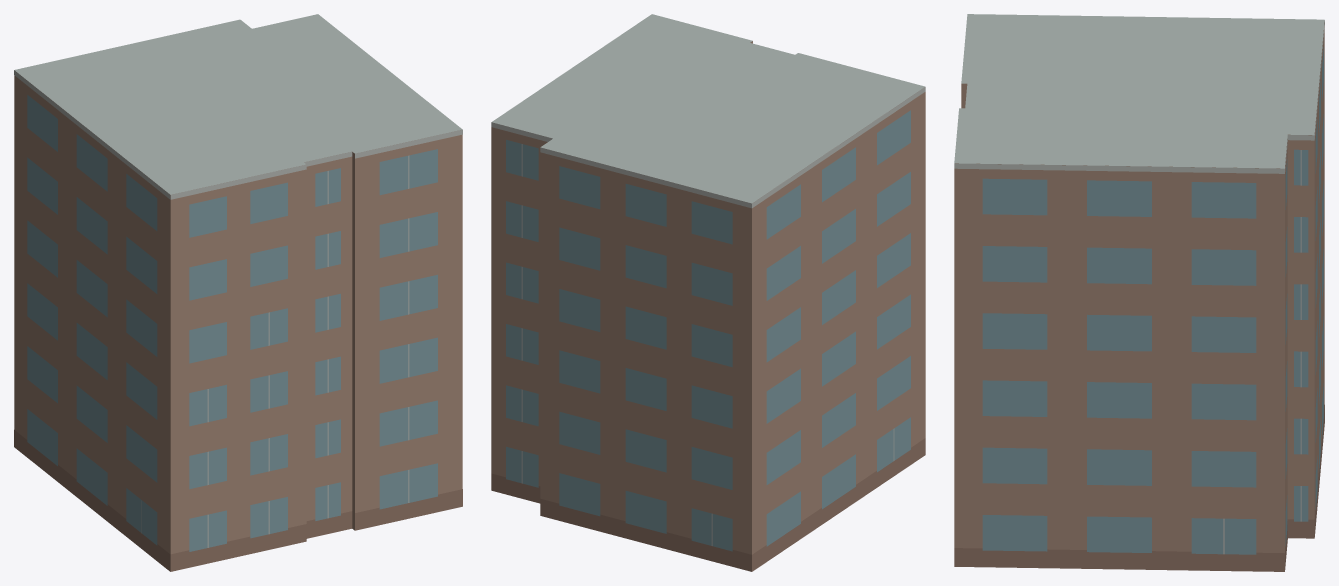
The model's file is survey-upis-32663463.glb.
3 views of the same model, side by side, from view 1: azimuth 30°, elevation 25°; view 2: azimuth 150°, elevation 25°; view 3: azimuth 270°, elevation 25° (orthographic). The views are drawn at different scales.
Parts seen in each view (by area): view 1: survey-upis-32663463.tmp; view 2: survey-upis-32663463.tmp; view 3: survey-upis-32663463.tmp.
Boxes of the visible parts, <box> form: survey-upis-32663463.tmp: <box>14,14,462,571</box>; survey-upis-32663463.tmp: <box>491,14,925,571</box>; survey-upis-32663463.tmp: <box>954,14,1324,571</box>.
Size of the model in its own units: 15.04 by 18.3 by 15.25.
